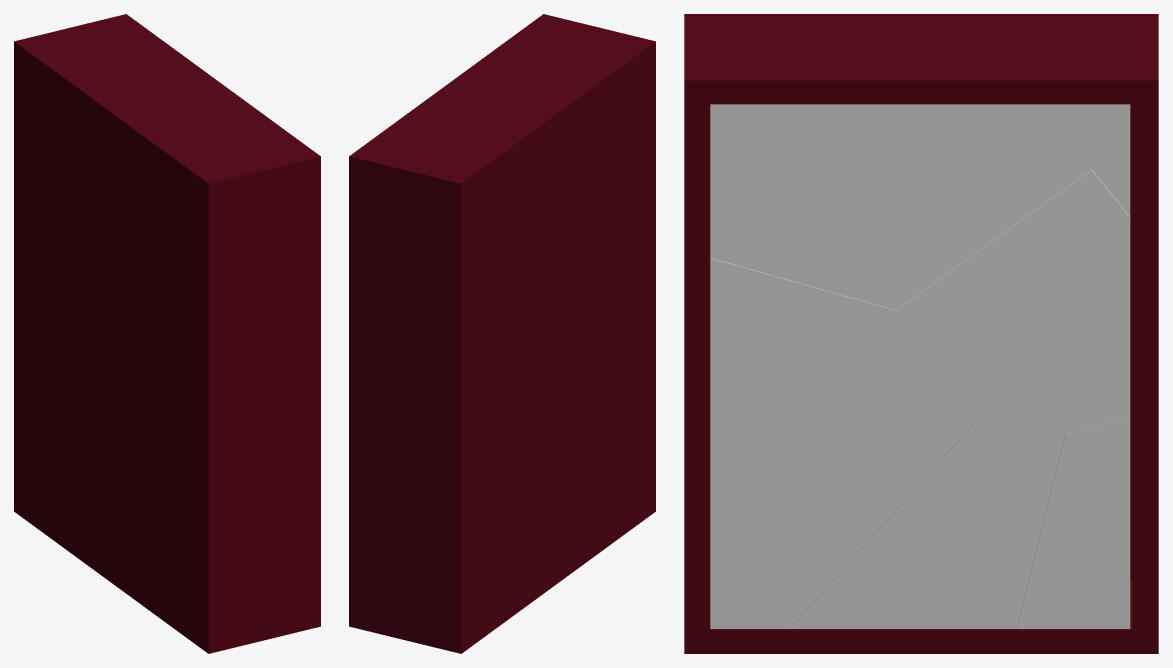
The model's file is glass box broken.fbx.
3 renders of one model, left to right at view 1: azimuth 30°, elevation 25°; view 2: azimuth 150°, elevation 25°; view 3: azimuth 270°, elevation 25°, orthographic. The views are drawn at different scales.
Visible parts, largest first — view 1: Cube; view 2: Cube; view 3: Cube, Cube.001_cell.004, Cube.001_cell.001, Cube.001_cell.006, Cube.001_cell, Cube.001_cell.005, Cube.001_cell.003.
Part boxes in pixels (box(x1,y1,x2,y2)): Cube: box(14, 14, 320, 653); Cube: box(349, 14, 655, 653); Cube: box(684, 14, 1158, 653); Cube.001_cell.004: box(710, 258, 972, 628); Cube.001_cell.001: box(710, 104, 1091, 310); Cube.001_cell.006: box(896, 169, 1130, 434); Cube.001_cell: box(790, 424, 1064, 628); Cube.001_cell.005: box(1016, 418, 1130, 628); Cube.001_cell.003: box(1086, 104, 1130, 216).
Size of the model in its own units: 100 by 400 by 300.
